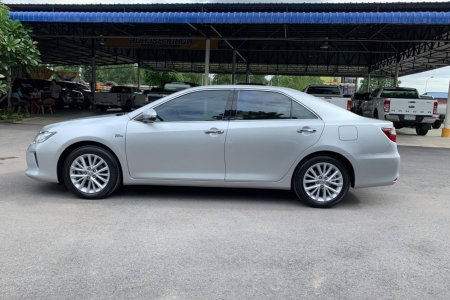sedan: (23, 83, 402, 210)
